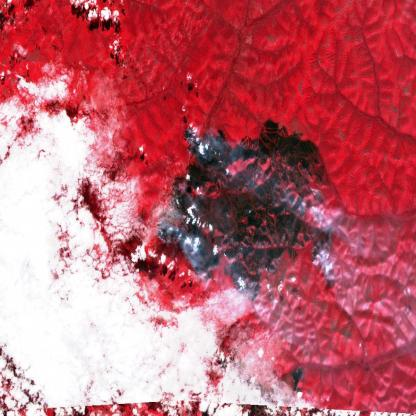fire: (152, 192, 214, 273), (179, 114, 229, 172), (306, 235, 336, 278)
